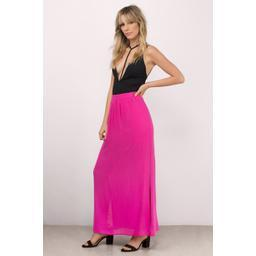Tshirt: (111, 42, 150, 94)
skirt: (92, 91, 160, 237)
